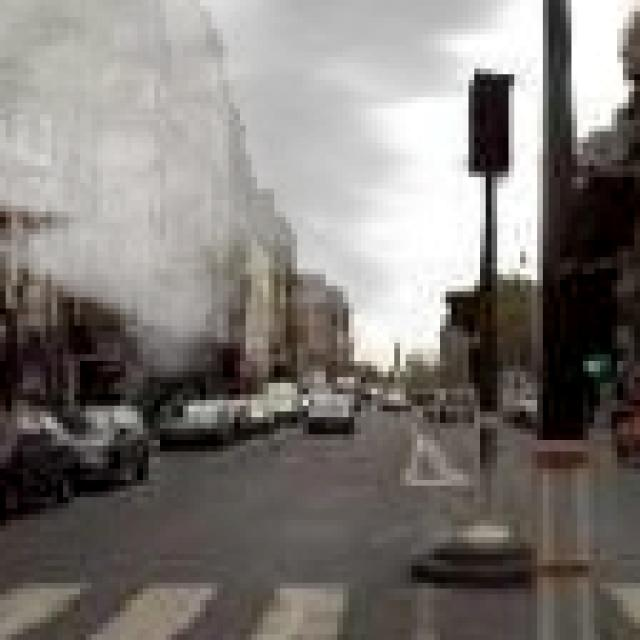smoke: (0, 0, 554, 388)
